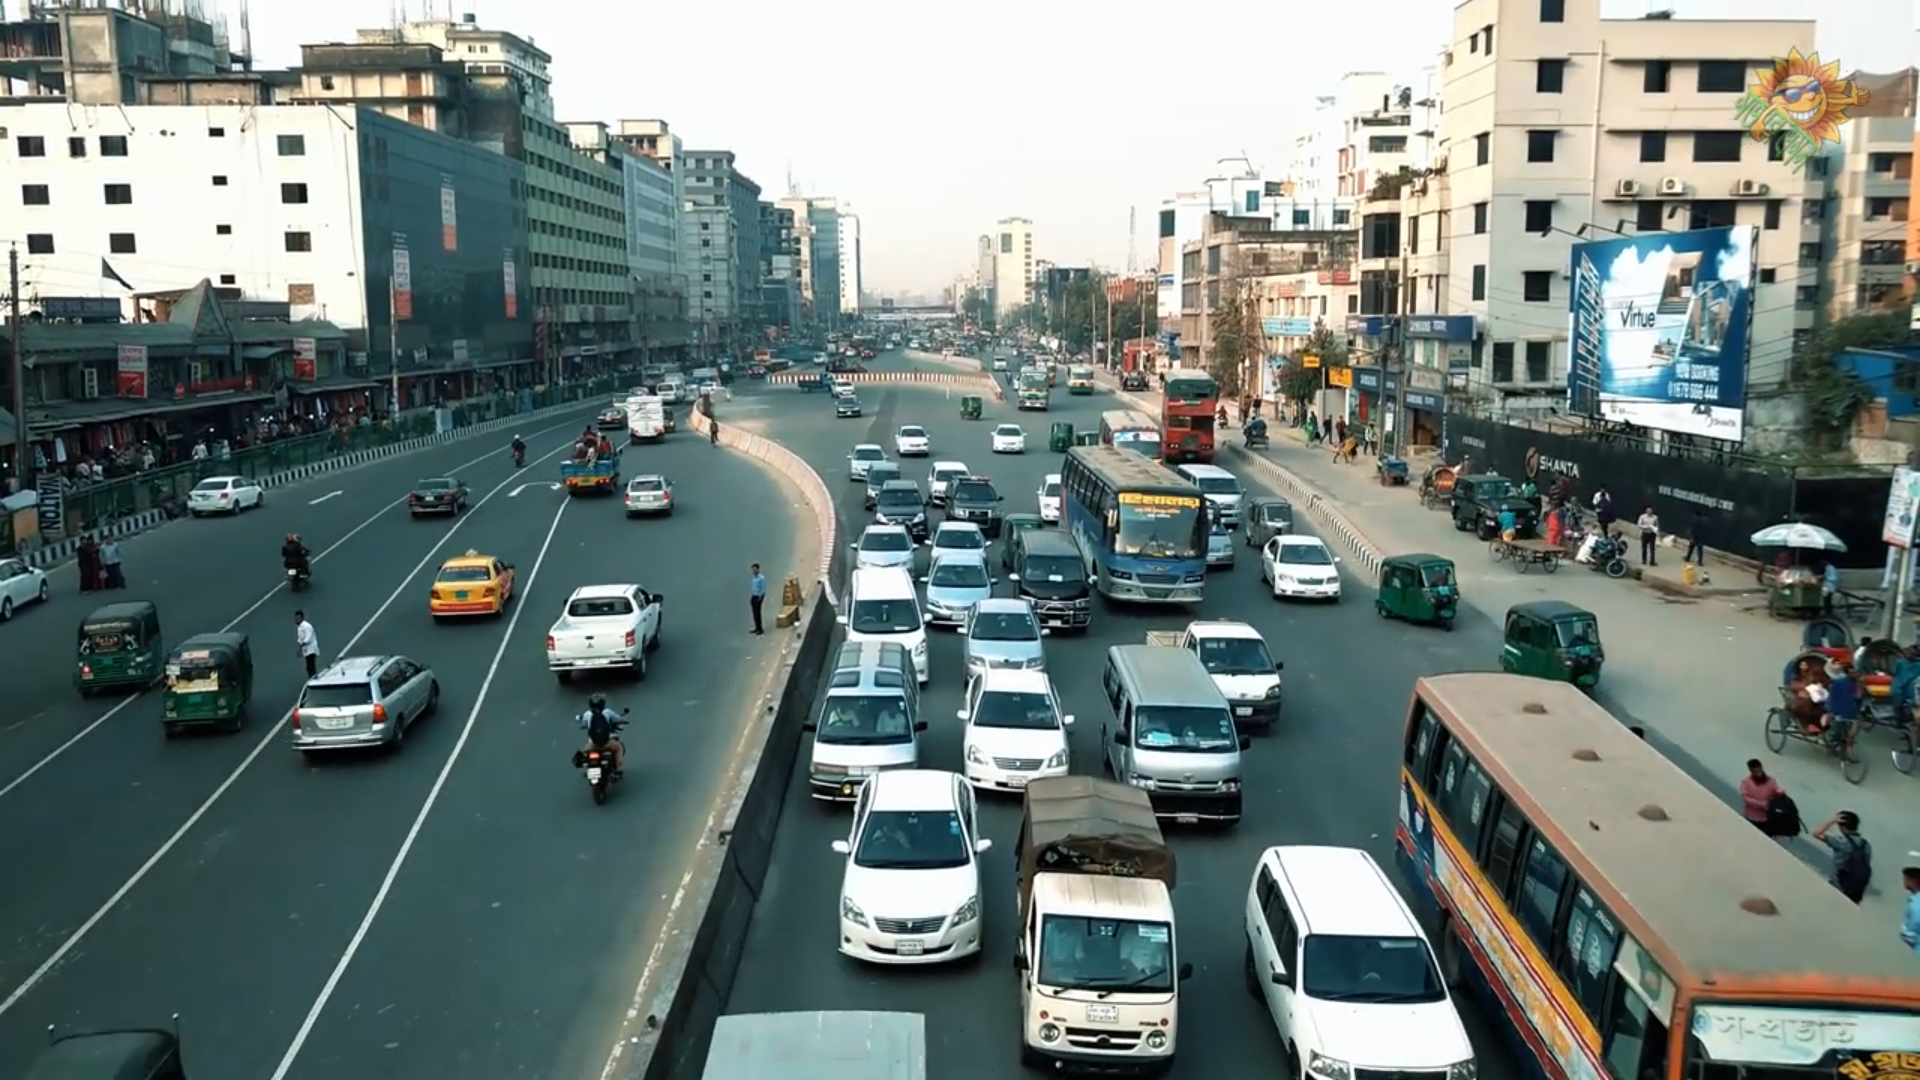HeavyVehicle: (1101, 487, 1211, 612), (1160, 367, 1216, 465)
LightVehicle: (1241, 840, 1480, 1080), (1007, 771, 1187, 1073), (833, 774, 990, 976), (290, 658, 440, 770), (549, 580, 669, 690), (167, 630, 253, 737), (427, 553, 518, 625), (1382, 551, 1458, 633), (1257, 535, 1342, 608), (404, 475, 472, 520), (624, 473, 676, 520)
MotorCycle: (574, 696, 633, 811), (277, 533, 318, 596), (510, 433, 526, 469)
